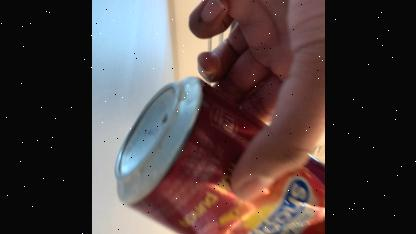Can: (109, 71, 325, 234)
